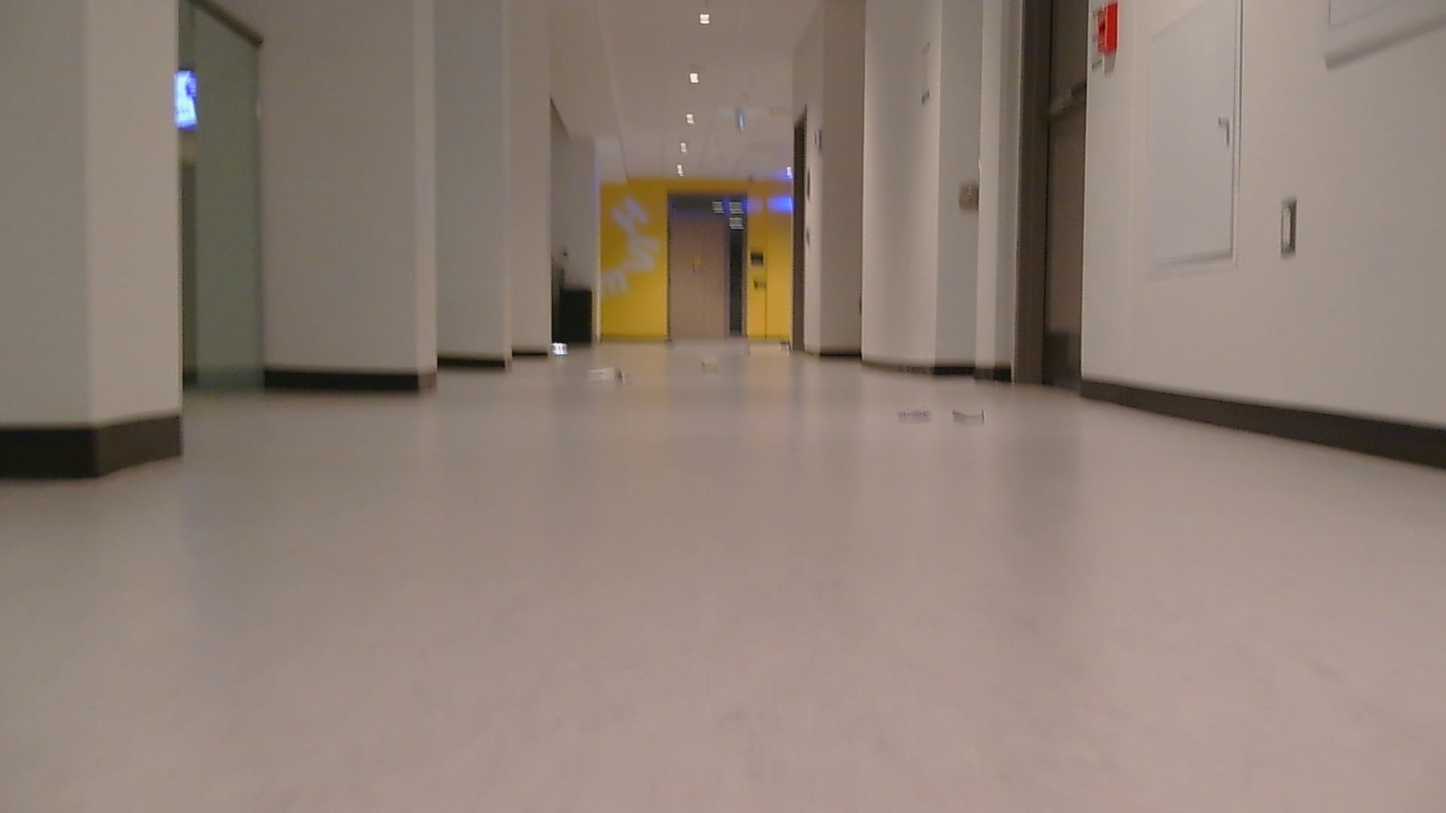carton: (580, 360, 626, 392), (956, 413, 995, 431), (706, 358, 744, 375), (896, 397, 924, 420), (779, 336, 802, 351)
